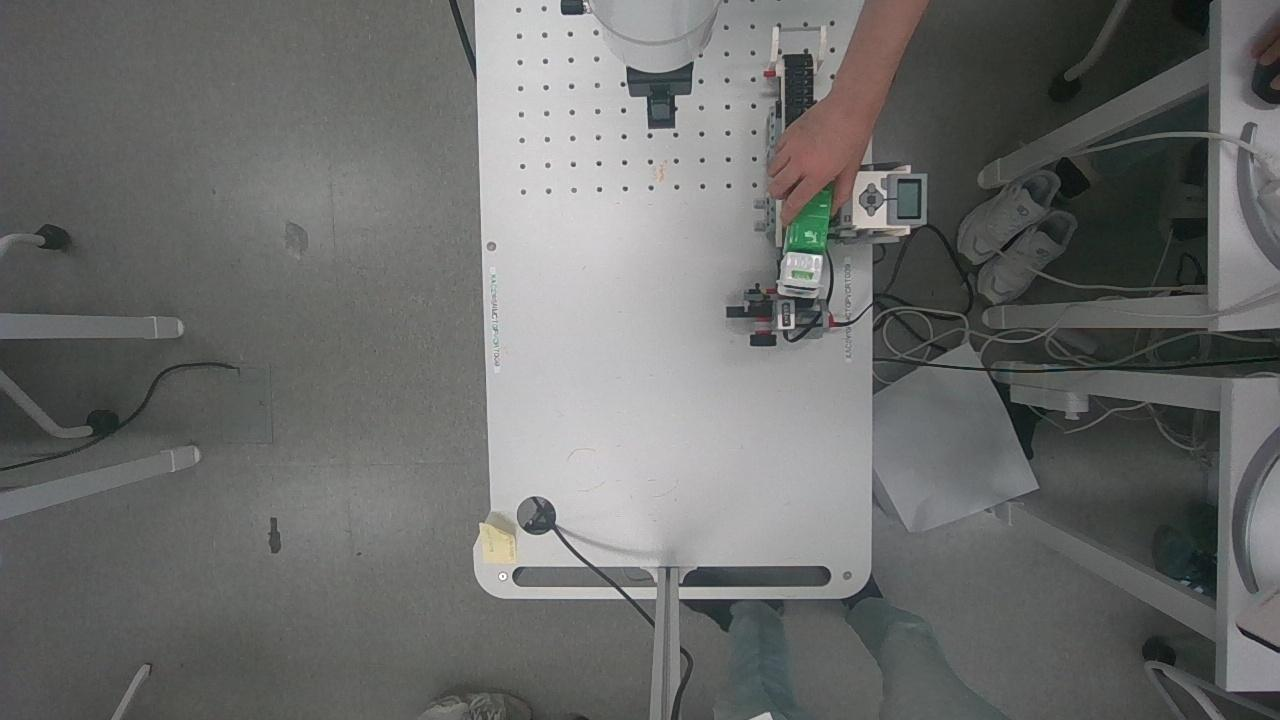truck: (775, 178, 843, 303)
